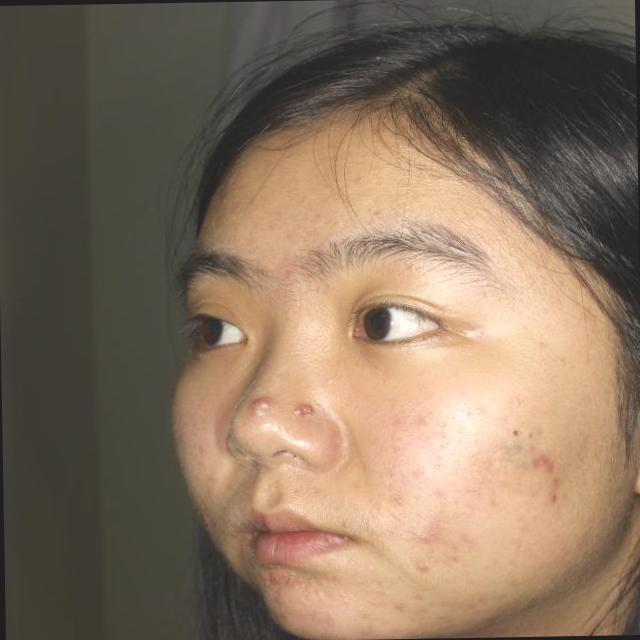acne: (235, 391, 281, 428), (533, 474, 577, 502), (412, 520, 450, 550), (260, 562, 296, 590), (524, 444, 564, 469), (401, 552, 420, 586)
